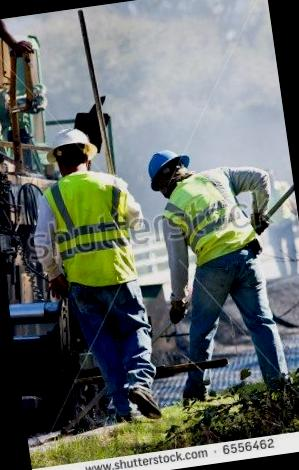helmet: (39, 123, 102, 168), (141, 144, 194, 194)
person: (24, 120, 160, 432), (138, 135, 288, 402)
